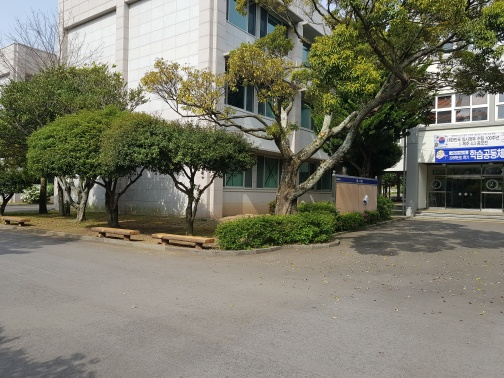College of Nursing: (58, 3, 492, 214)
